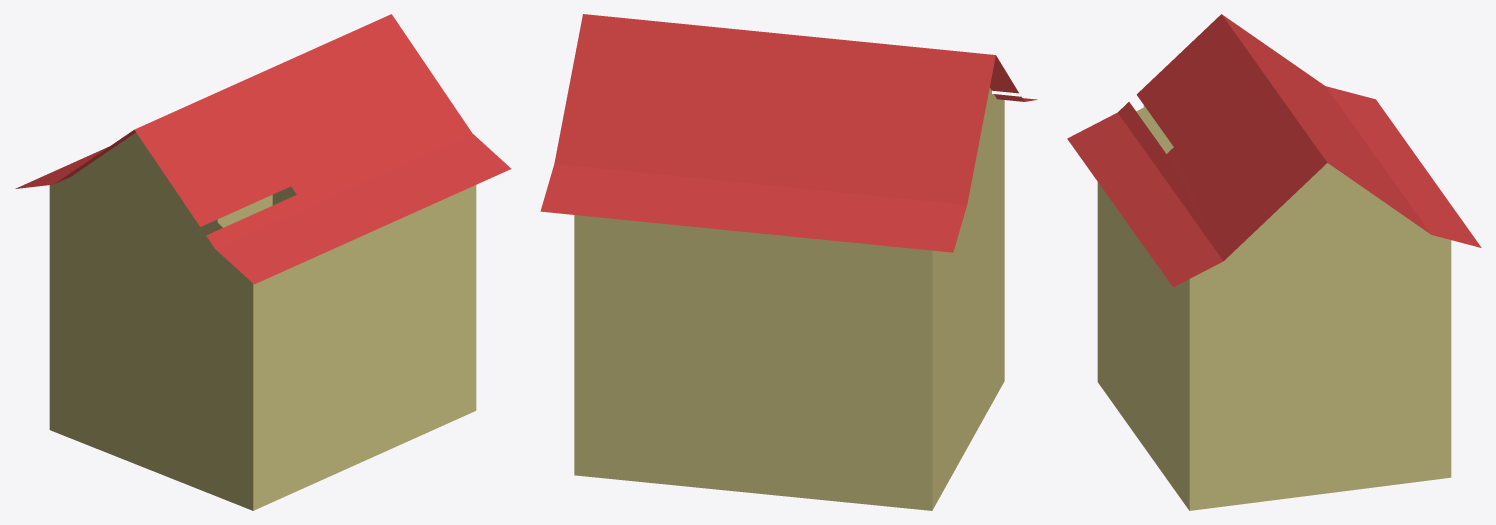
3 renders of one model, left to right at view 1: azimuth 30°, elevation 25°; view 2: azimuth 150°, elevation 25°; view 3: azimuth 270°, elevation 25°, orthographic. The views are drawn at different scales.
Bounding box in the file's own units: 13.6 × 12.67 × 11.51.
